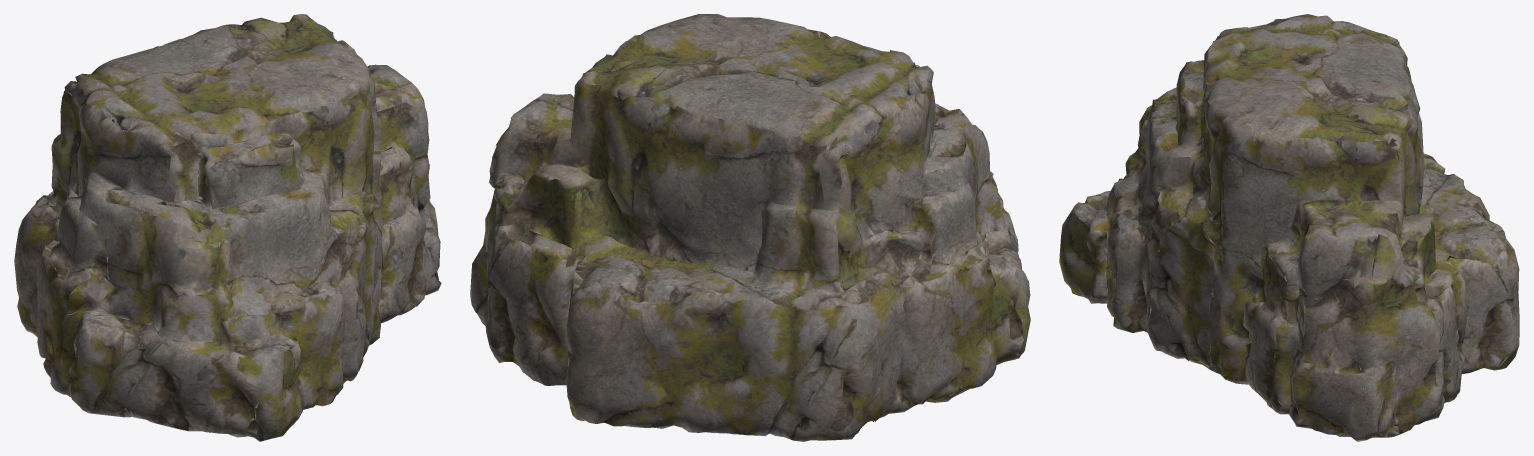
3 renders of one model, left to right at view 1: azimuth 30°, elevation 25°; view 2: azimuth 150°, elevation 25°; view 3: azimuth 270°, elevation 25°, orthographic. The views are drawn at different scales.
Parts seen in each view (by area): view 1: Cube.043; view 2: Cube.043; view 3: Cube.043.
Boxes of the visible parts, bbox=[...] form: Cube.043: bbox=[14, 14, 441, 441]; Cube.043: bbox=[470, 14, 1030, 441]; Cube.043: bbox=[1059, 14, 1519, 441].
Size of the model in its own units: 6.62 by 4.08 by 6.3.
Materials: 1 (1 with a texture image).
